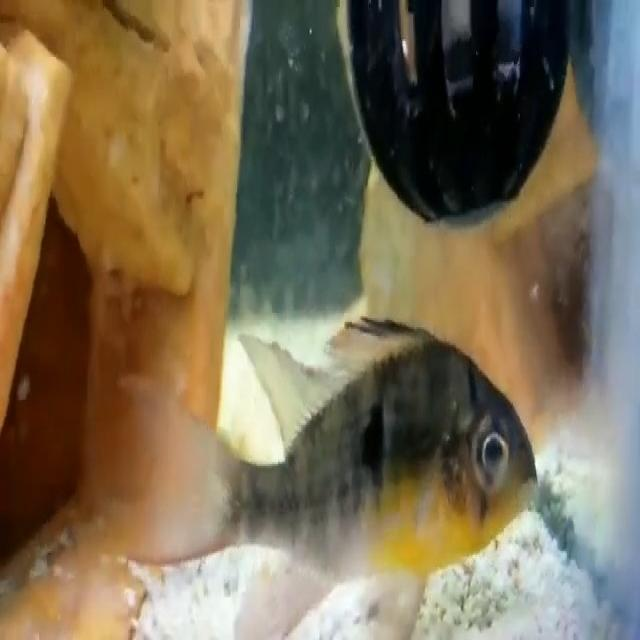fish: (143, 304, 545, 637)
